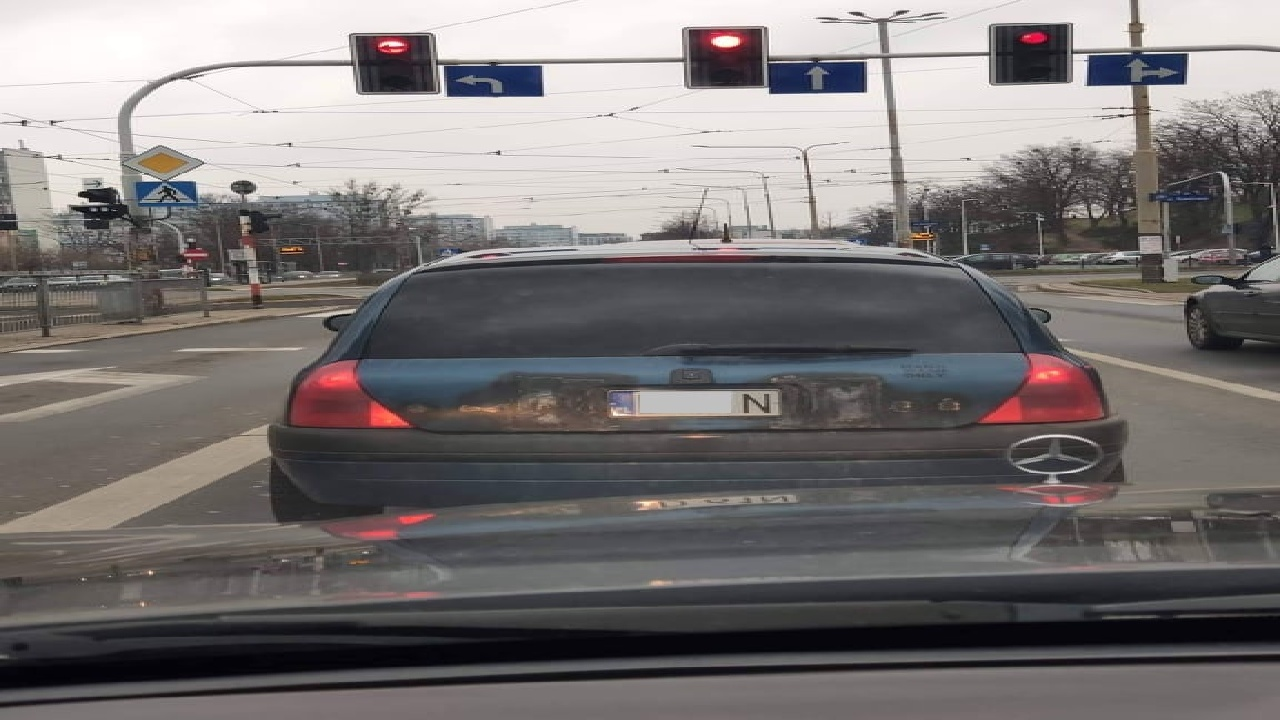D1: (122, 145, 207, 179)
D6: (136, 179, 198, 209)
Red: (374, 33, 412, 92), (1014, 27, 1049, 83), (710, 28, 742, 87)
